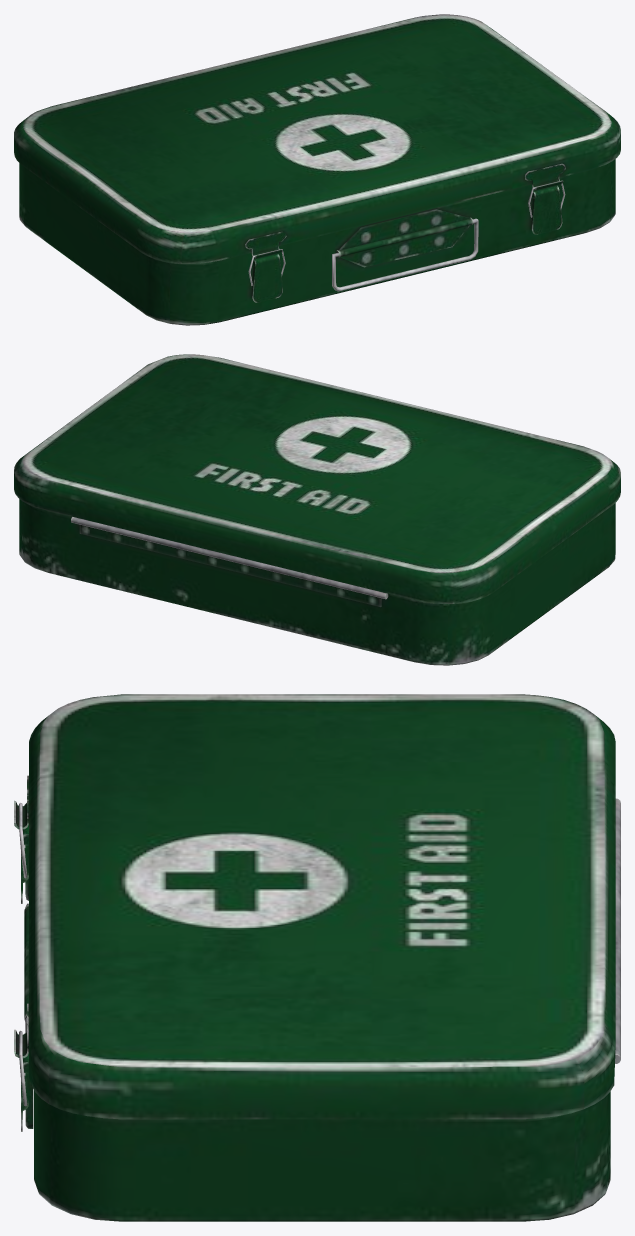
File: medical_box.glb
3 views of the same model, one above another, from view 1: azimuth 30°, elevation 25°; view 2: azimuth 150°, elevation 25°; view 3: azimuth 270°, elevation 25° (orthographic). The views are drawn at different scales.
Visible parts, largest first — view 1: medical_box_lid, medical_box, medical_box_latch, medical_box_handle; view 2: medical_box_lid, medical_box; view 3: medical_box_lid, medical_box.
Part boxes in pixels (x1=…): medical_box_lid: x1=14, y1=14, x2=620, y2=263; medical_box: x1=19, y1=159, x2=615, y2=325; medical_box_latch: x1=251, y1=185, x2=562, y2=302; medical_box_handle: x1=332, y1=218, x2=478, y2=291; medical_box_lid: x1=14, y1=354, x2=620, y2=603; medical_box: x1=19, y1=499, x2=615, y2=665; medical_box_lid: x1=14, y1=694, x2=615, y2=1119; medical_box: x1=24, y1=798, x2=620, y2=1221.
Size of the model in its own units: 0.5255 by 0.0975 by 0.3501.
1 material, 1 textured.
